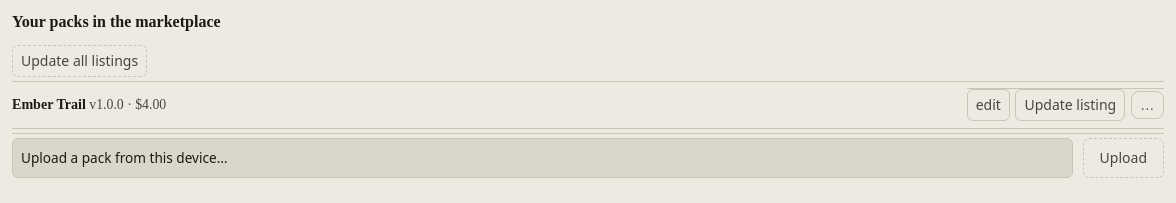
Test case: a publisher's packs in the marketplace › shows the price as text, not a field, until edit is pressed
The width and height of the screenshot is (1176, 203).
Click the button "edit" at (988, 105), box [967,89,1010,121]
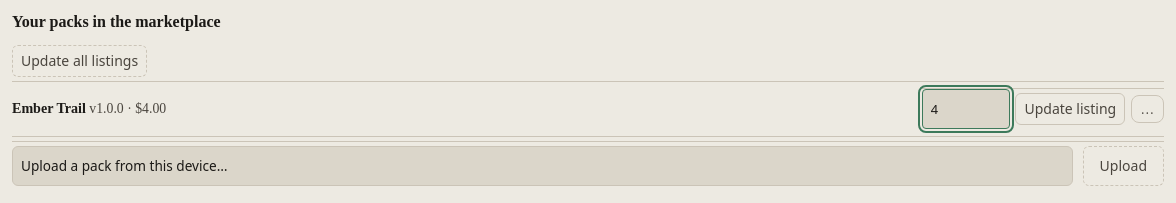
Expected: the field named "Price for Ember Trail, in dollars" holds "4", [922,89,1010,129]
